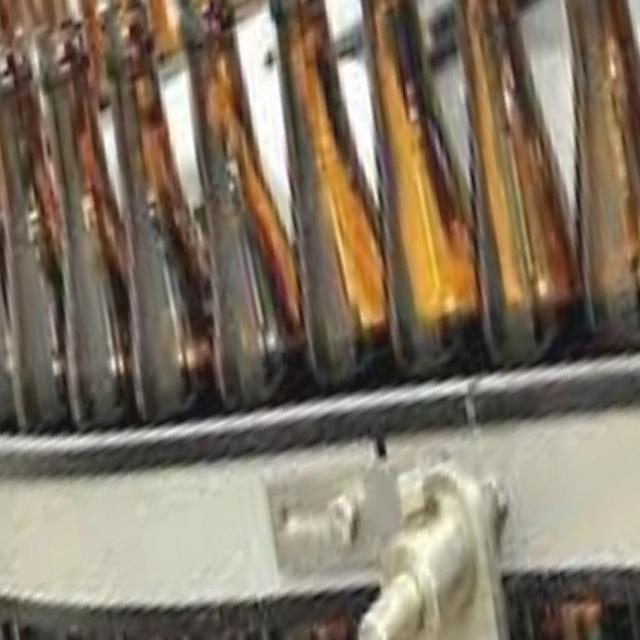bottle: (454, 0, 598, 398), (359, 0, 495, 387), (182, 0, 296, 455), (267, 0, 385, 421), (102, 0, 198, 455), (1, 1, 66, 443)
